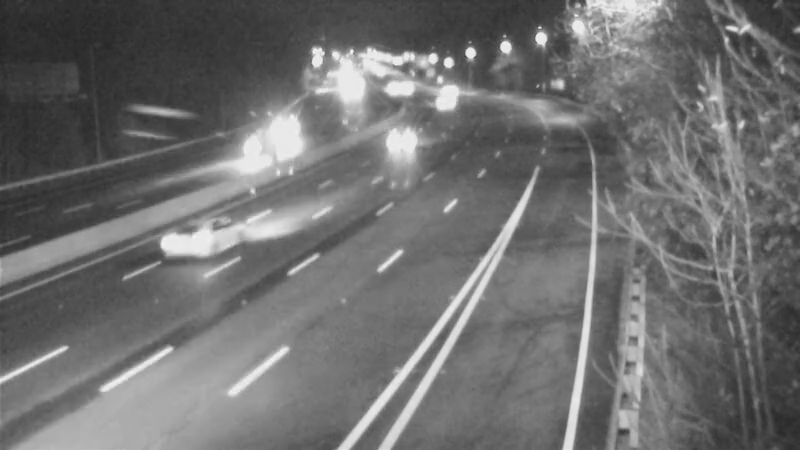vehicle: (149, 198, 229, 278), (212, 115, 292, 195), (381, 62, 431, 112), (363, 62, 413, 112), (424, 65, 474, 115), (420, 82, 470, 132), (376, 112, 426, 162), (257, 107, 307, 157)
